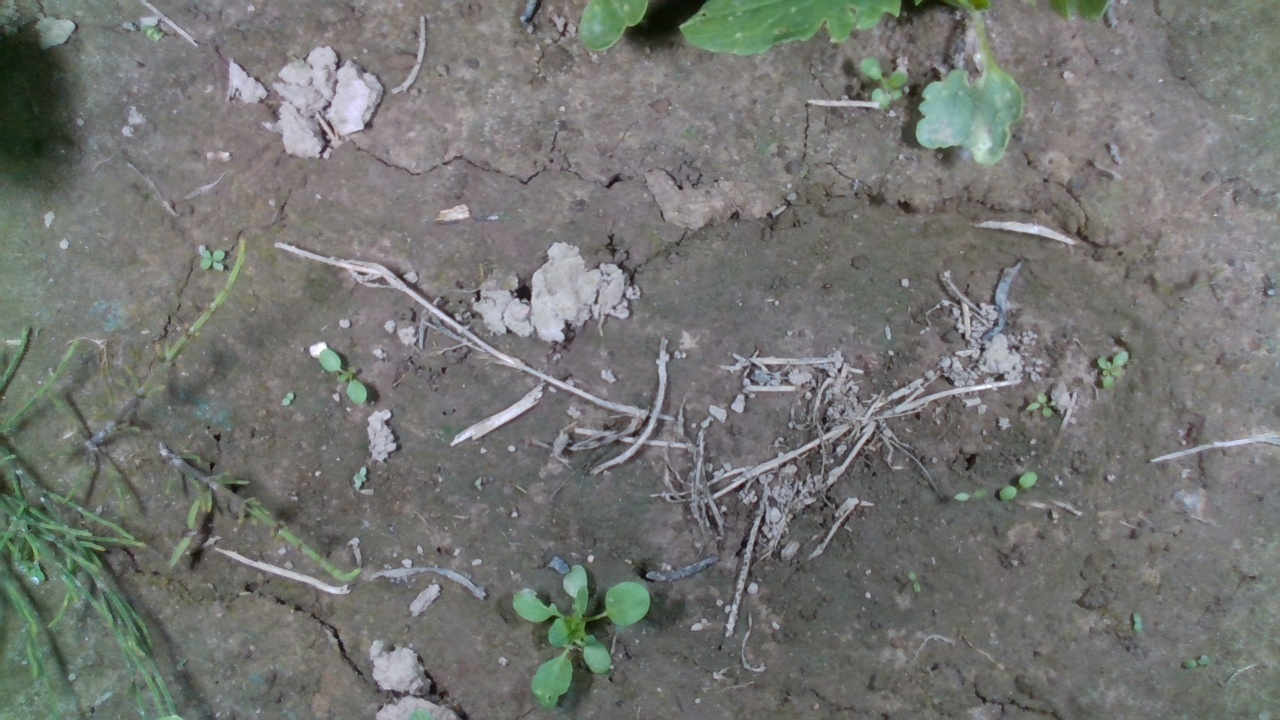weed: (315, 347, 369, 405), (858, 55, 911, 109), (995, 469, 1037, 502), (1095, 350, 1130, 389), (1023, 391, 1057, 418), (198, 246, 228, 272)
